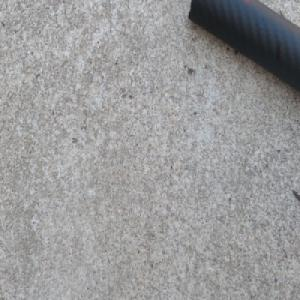LuggagePart: (187, 0, 300, 96)
